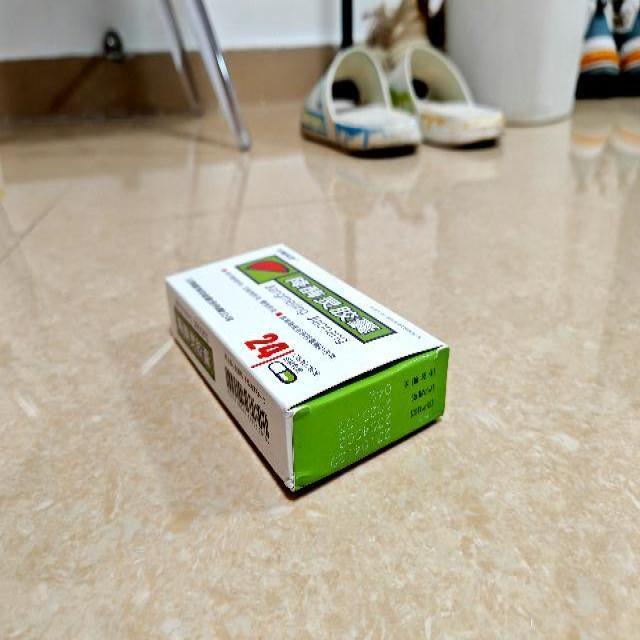box: (164, 241, 448, 498)
